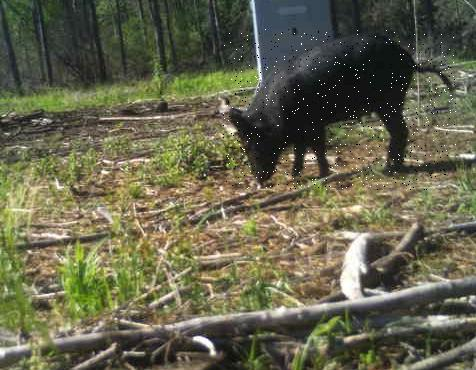Hog: (223, 29, 456, 190)
